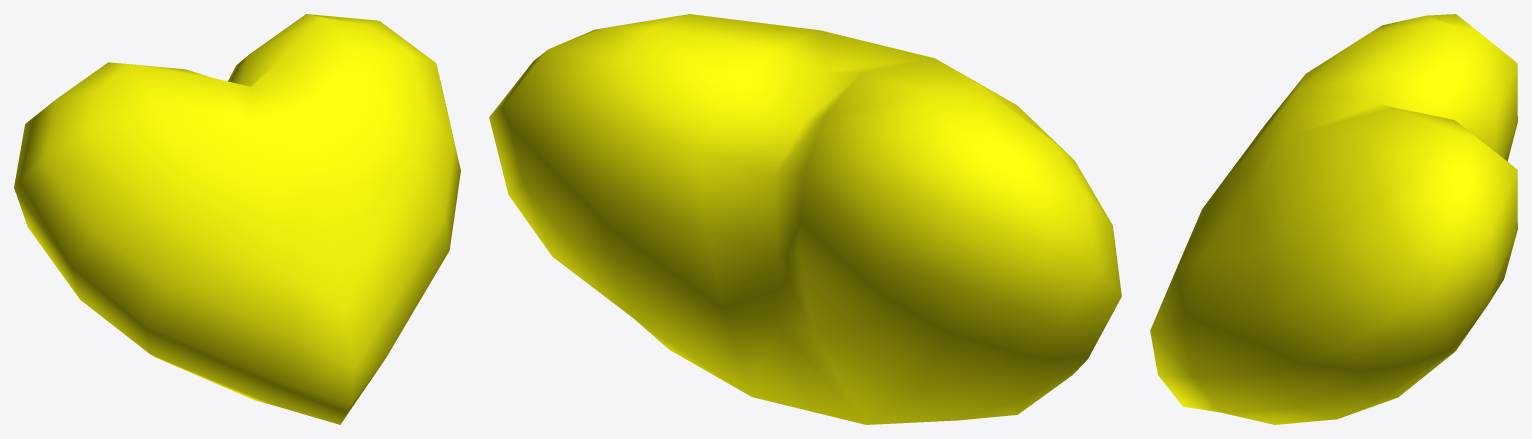
3 views of the same model, side by side, from view 1: azimuth 30°, elevation 25°; view 2: azimuth 150°, elevation 25°; view 3: azimuth 270°, elevation 25° (orthographic). The views are drawn at different scales.
Visible parts, largest first — view 1: hp; view 2: hp; view 3: hp.
Boxes of the visible parts, <box> form: hp: <box>14,14,460,424</box>; hp: <box>489,14,1121,424</box>; hp: <box>1150,14,1517,424</box>.
Bounding box in the file's own units: 0.5842 × 0.3965 × 0.3924.
Materials: 1 (1 with a texture image).
